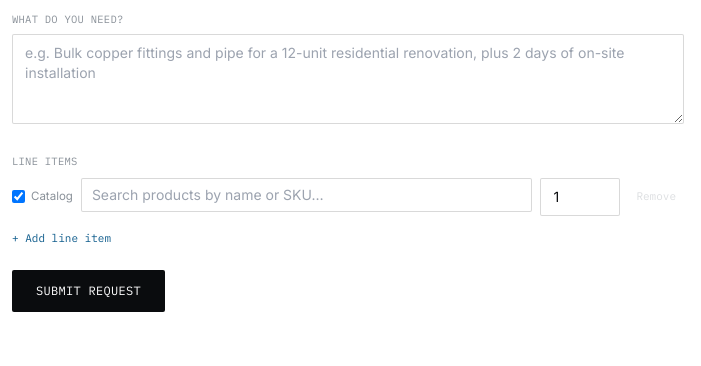
Scenario: QuoteRequestForm › blocks submission with a validation message when the description is too short
The width and height of the screenshot is (701, 366).
Type "too short" into the text box with placeholder "Bulk copper fittings" at (348, 79), box [12,34,684,124]
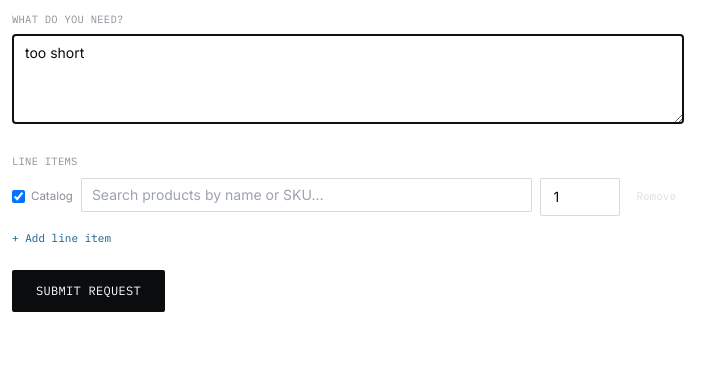
Click the button "Submit Request" at (88, 291), box [12,270,165,312]
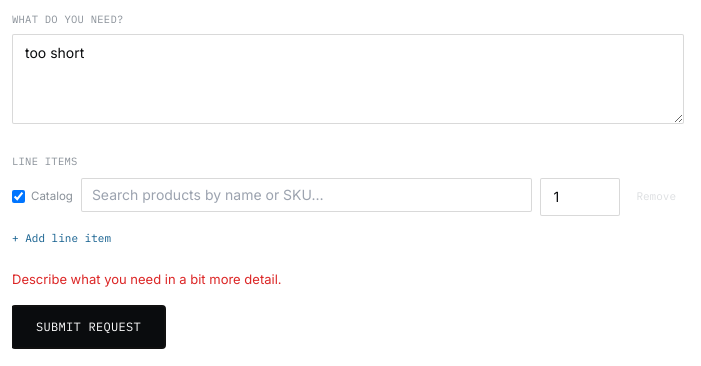
Expected: the text "Describe what you need in a bit more detail." is shown, [12,271,282,287]
